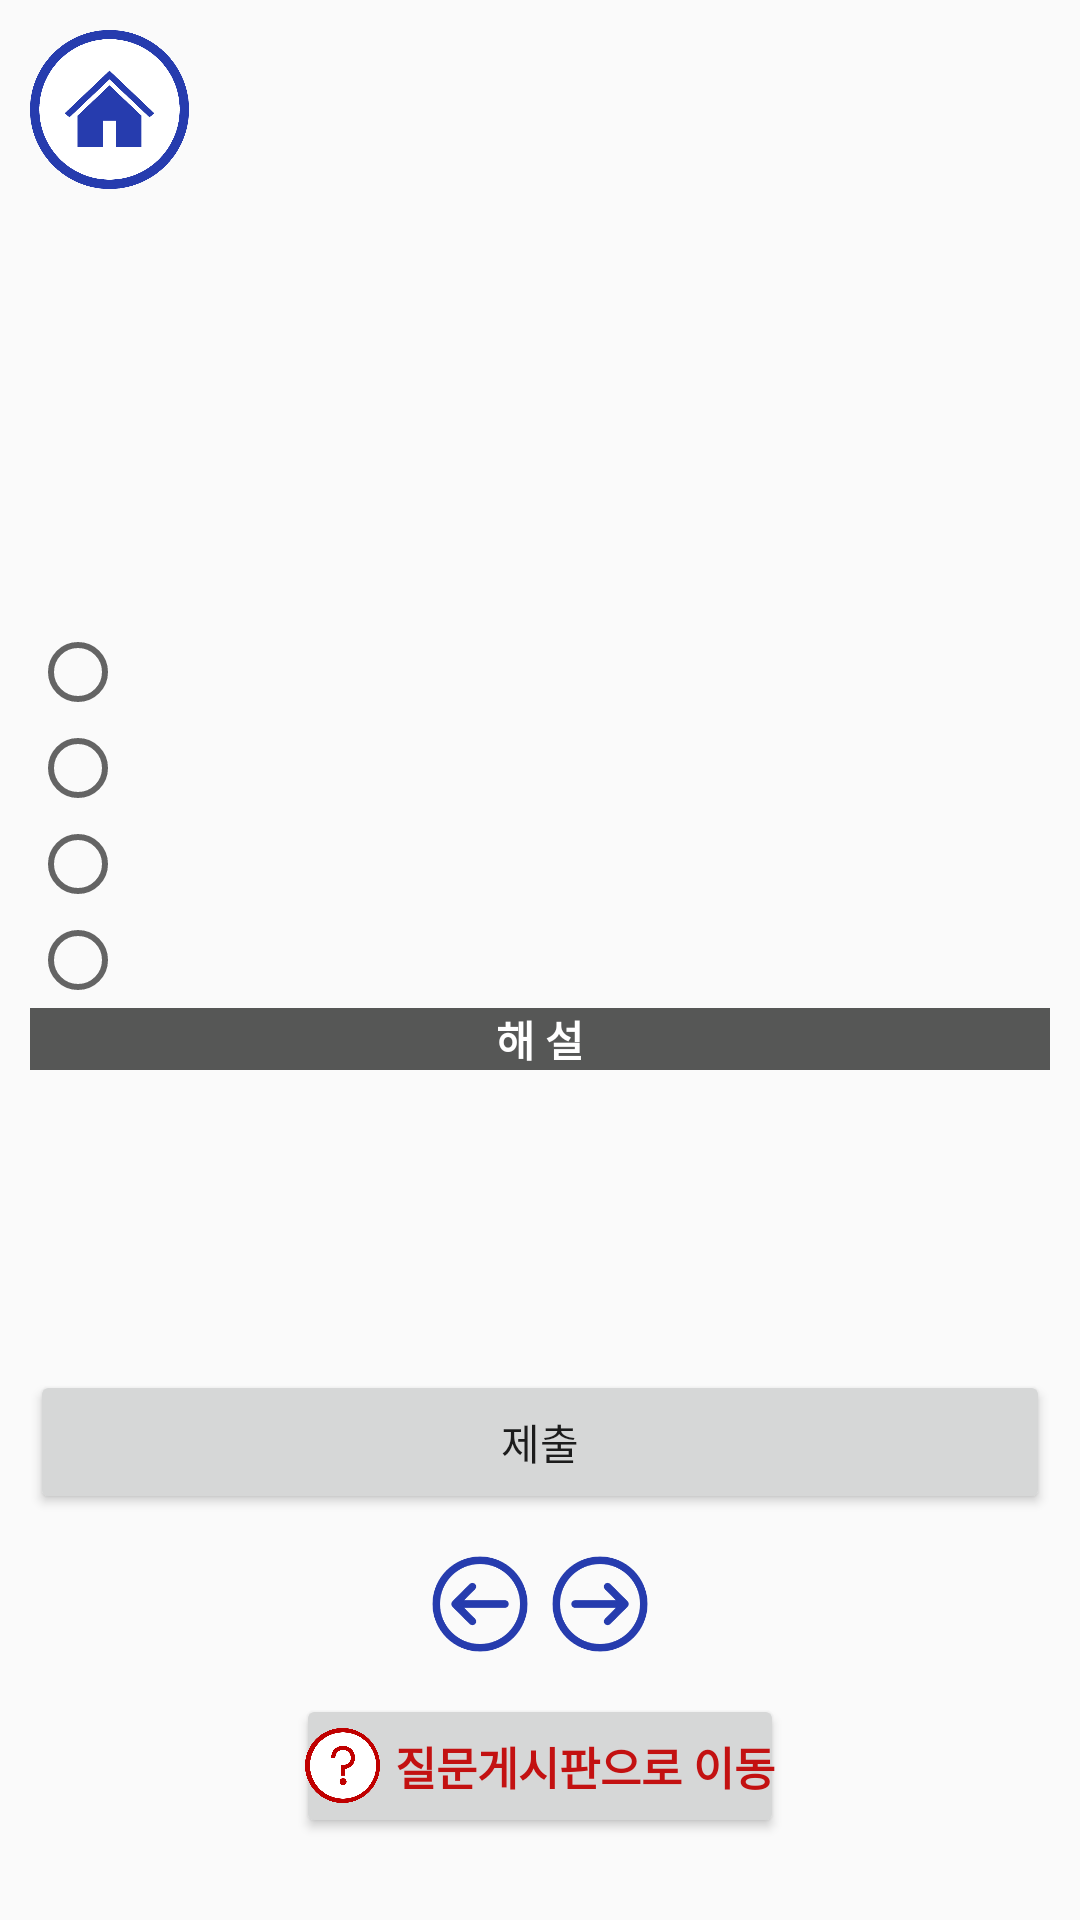

Where icons sit on this 1080x1920 app screen, as (x1, y1, x2, y2):
back: (432, 1556, 528, 1652)
home: (30, 30, 189, 189)
next: (552, 1556, 648, 1652)
